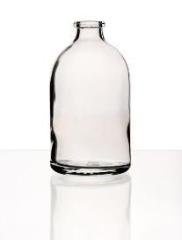glass: (47, 20, 134, 178)
